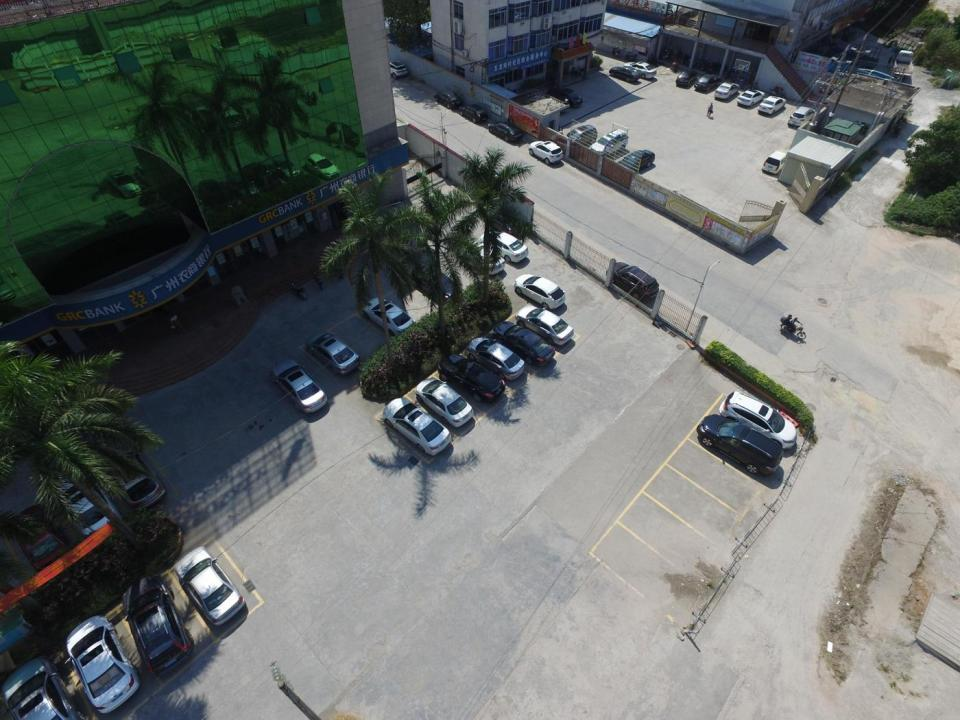car: (120, 571, 192, 674), (67, 614, 139, 712), (173, 546, 247, 629), (2, 656, 97, 717), (50, 472, 121, 535), (100, 446, 167, 511), (10, 503, 71, 574), (383, 397, 452, 455), (270, 359, 329, 414), (438, 354, 505, 402), (491, 320, 555, 366), (416, 377, 472, 427), (607, 259, 660, 309), (515, 304, 576, 347), (467, 336, 526, 380), (306, 330, 361, 376), (364, 297, 416, 336), (410, 266, 462, 305), (514, 272, 566, 310), (479, 229, 528, 264), (464, 242, 506, 274), (589, 128, 629, 159), (616, 148, 656, 177), (528, 139, 564, 165), (546, 87, 582, 108), (488, 120, 521, 142), (785, 107, 816, 130), (607, 64, 641, 84), (762, 150, 788, 176), (627, 62, 659, 80), (756, 96, 786, 115), (736, 88, 764, 108), (695, 74, 721, 95), (460, 102, 487, 122), (713, 82, 742, 100), (434, 90, 460, 108), (384, 59, 407, 77), (674, 71, 696, 89)
van: (565, 124, 597, 146)
